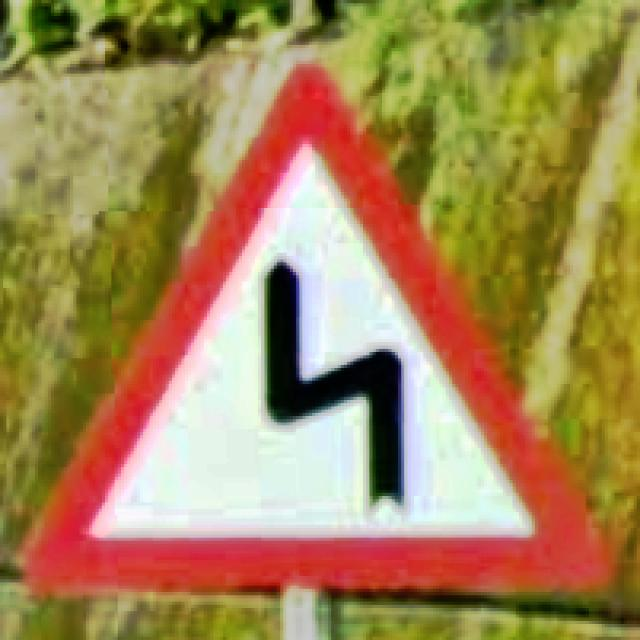doublebendleft: (29, 64, 605, 592)
